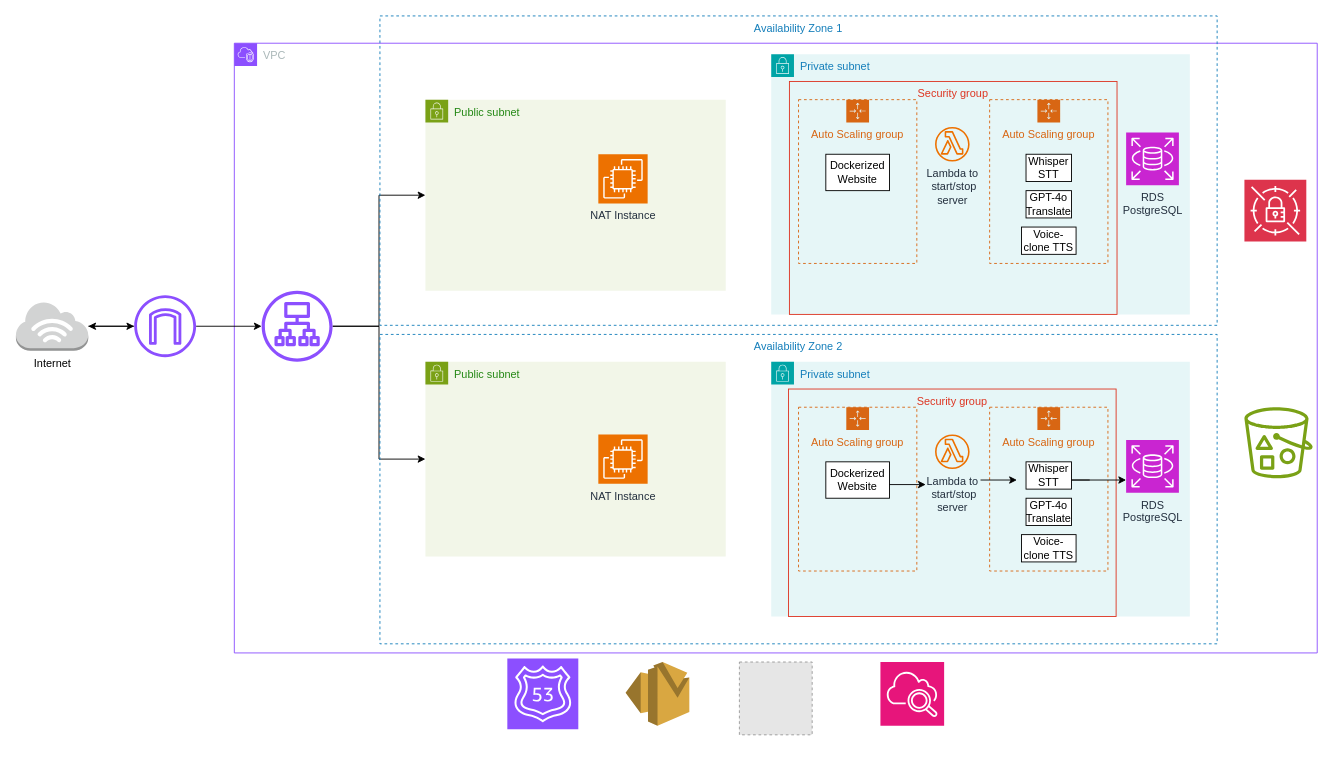
Image size: 1333x764. Some labels were removed from this diagram. Grey dashed boxes stand in for pictures. Here are the shapes that lost their labels. From the top down, the centre of each, then its label:
(1275,210): Secrets manager
(165,326): Internet GateWay
(296,325): ALB
(1278,442): S3 Bucket
(542,693): Route 53
(657,693): SES
(912,693): CloudWatch
